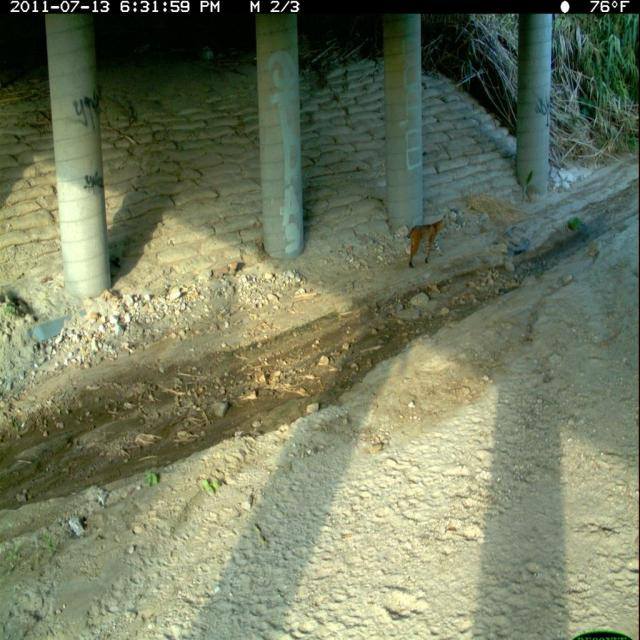bobcat: (405, 213, 452, 273)
